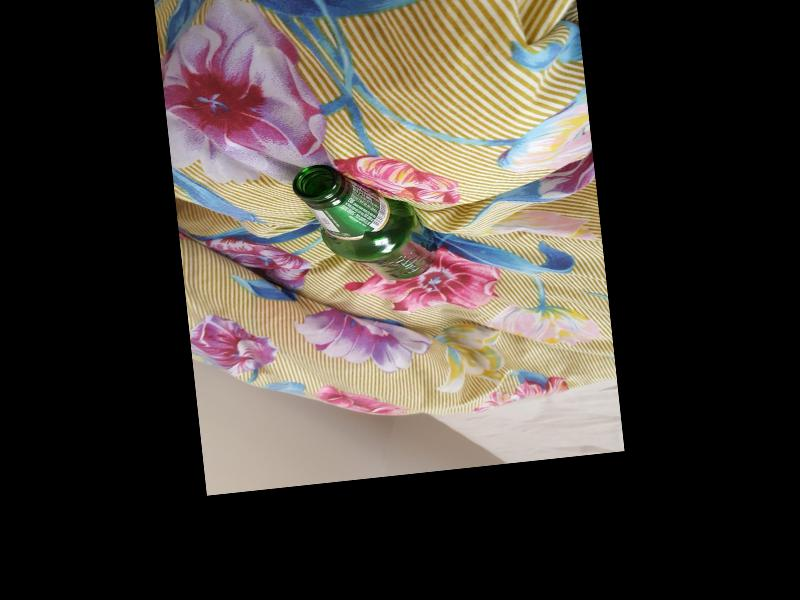Beer: (289, 151, 439, 290)
